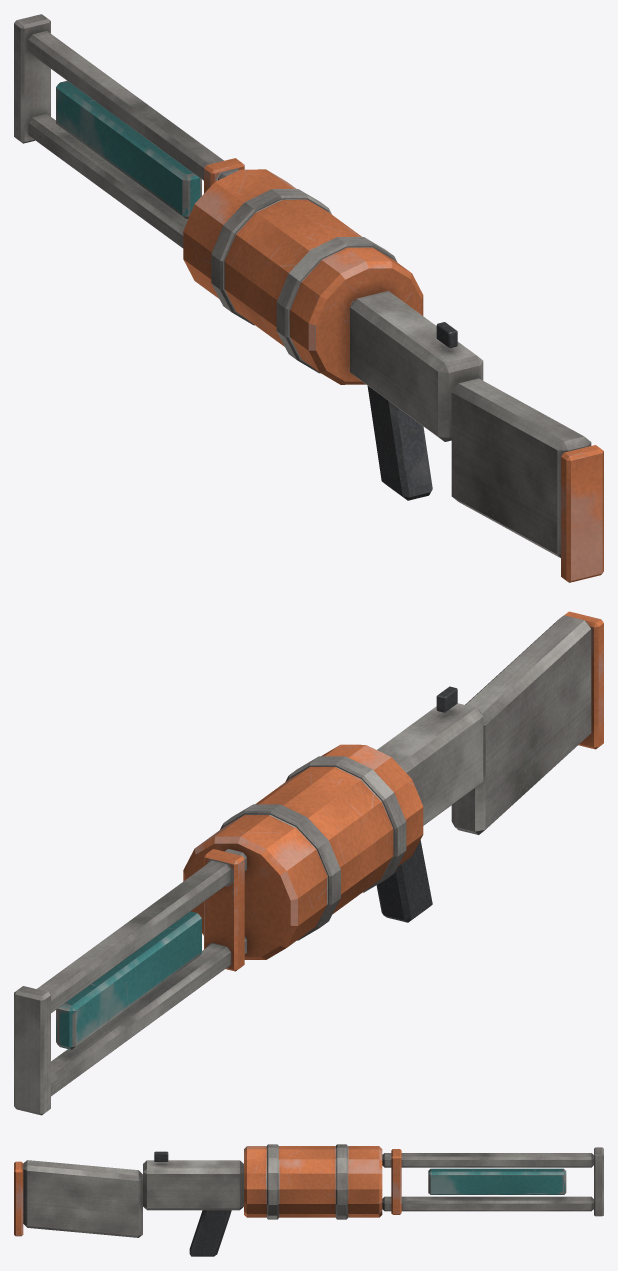
Rendered from charge_rifle.glb.
3 views of the same model, one above another, from view 1: azimuth 30°, elevation 25°; view 2: azimuth 150°, elevation 25°; view 3: azimuth 270°, elevation 25° (orthographic). The views are drawn at different scales.
Parts seen in each view (by area): view 1: charge_rifle; view 2: charge_rifle; view 3: charge_rifle.
Boxes of the visible parts, left/top/right/bottom form: charge_rifle: left=14, top=14, right=603, bottom=582; charge_rifle: left=14, top=611, right=603, bottom=1115; charge_rifle: left=14, top=1144, right=603, bottom=1256.
Bounding box in the file's own units: 0.1185 × 0.189 × 0.95.
Materials: 1 (1 with a texture image).
